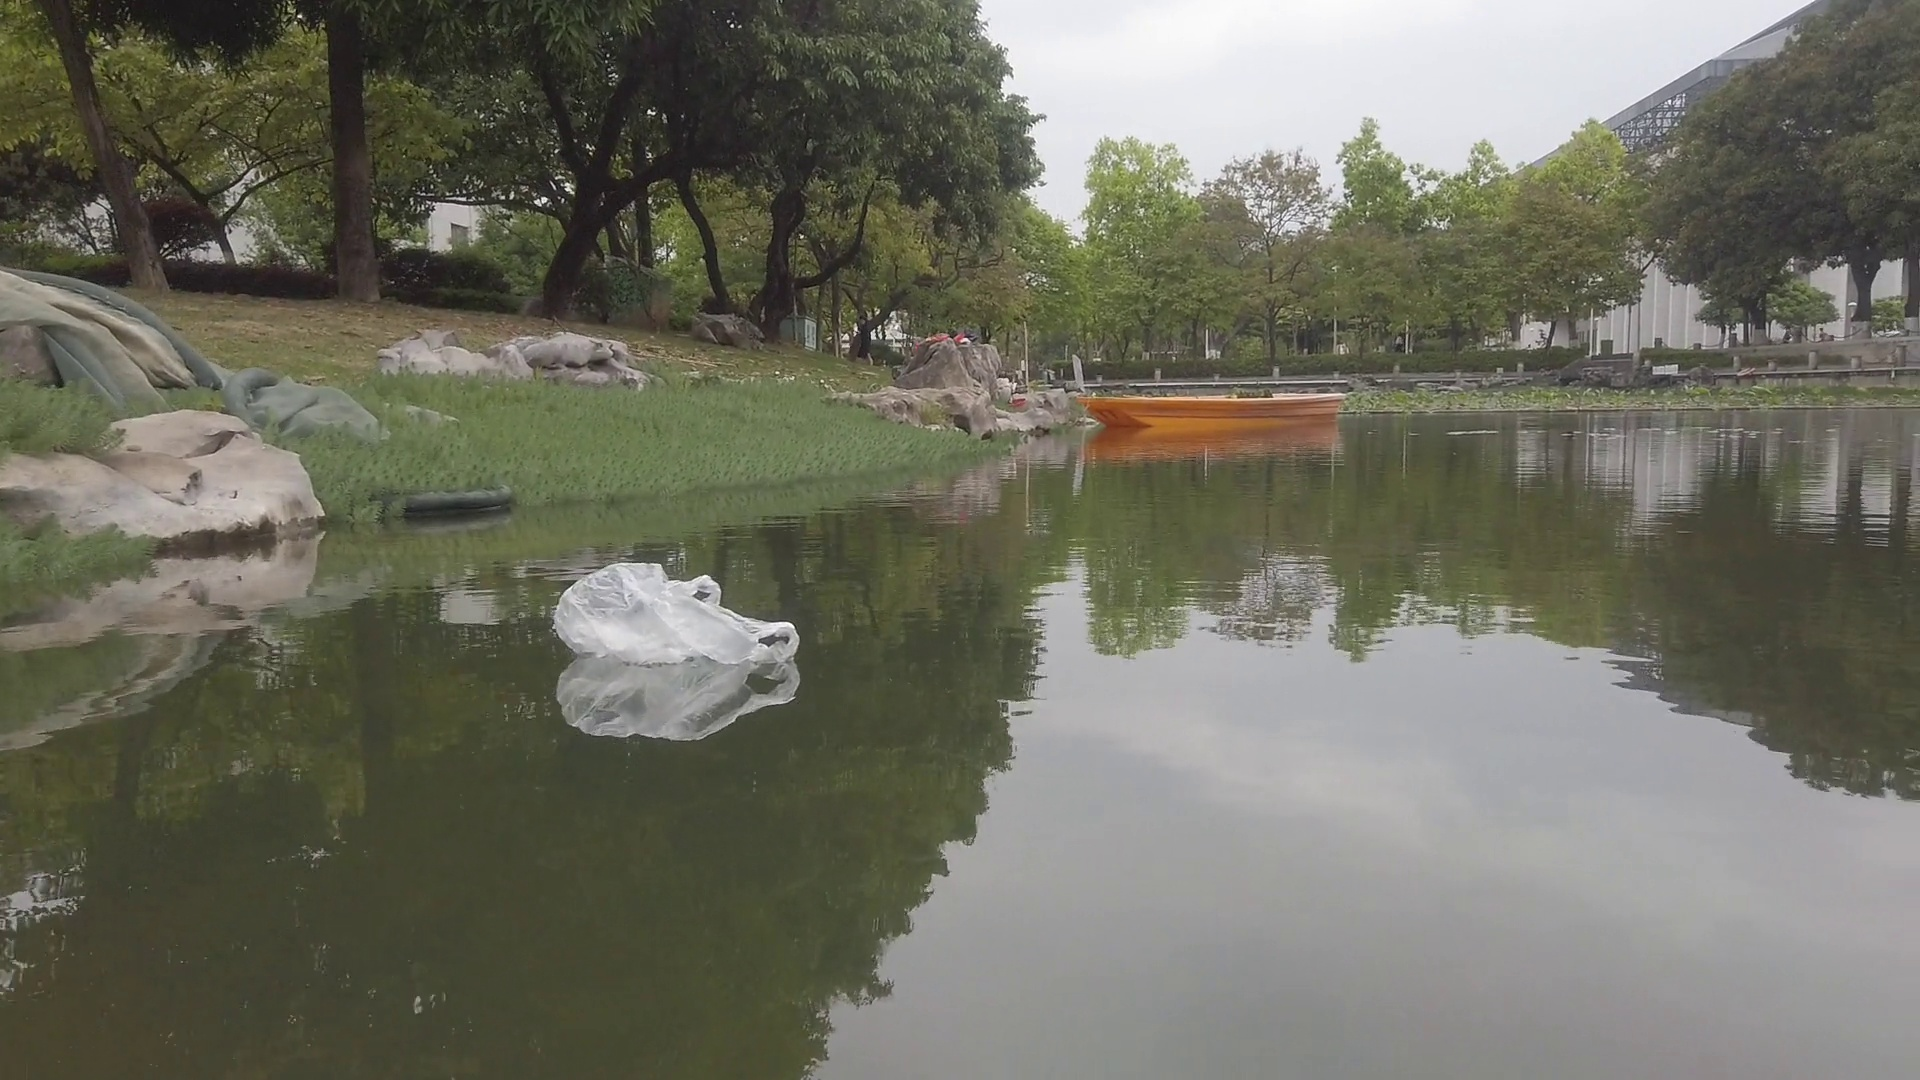plastic: (553, 558, 802, 676)
